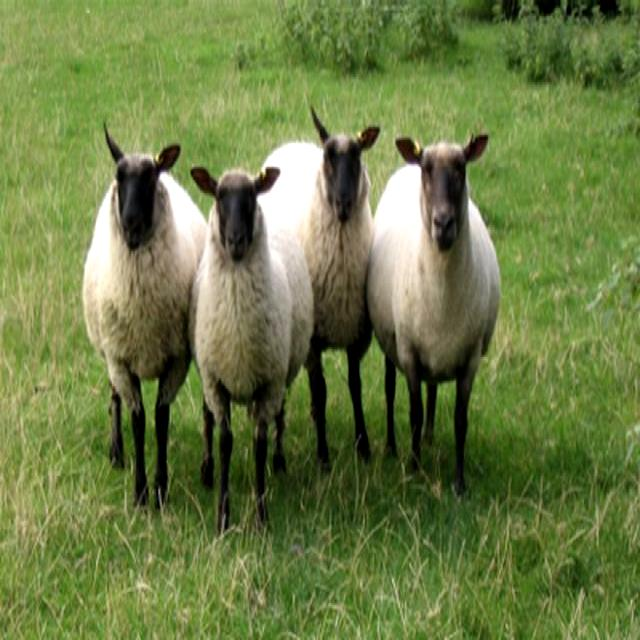sheep: (84, 116, 208, 505), (367, 133, 499, 498), (189, 163, 316, 531)
